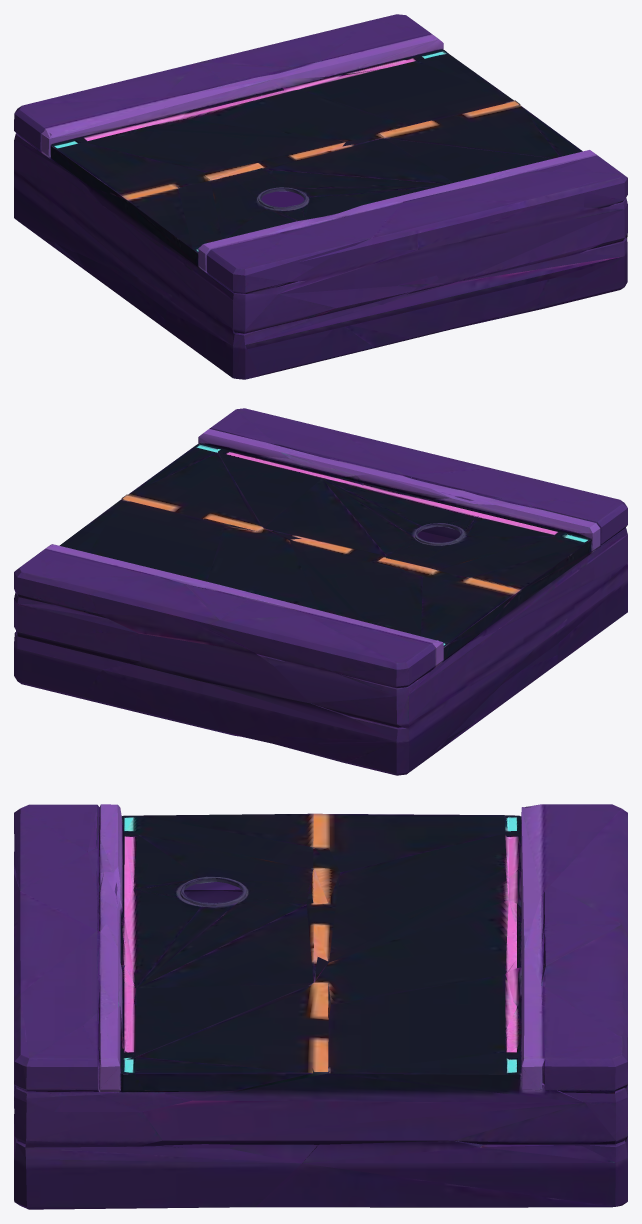
File: tile-road.glb
The picture shows the model from 3 angles, top to bottom: view 1: azimuth 30°, elevation 25°; view 2: azimuth 150°, elevation 25°; view 3: azimuth 270°, elevation 25°; orthographic projection. The views are drawn at different scales.
Parts seen in each view (by area): view 1: output_unwrapped; view 2: output_unwrapped; view 3: output_unwrapped.
Boxes of the visible parts, box(x1,y1,x2,y2) form: output_unwrapped: box(14, 14, 627, 379); output_unwrapped: box(14, 408, 627, 775); output_unwrapped: box(14, 804, 627, 1209).
Bounding box in the file's own units: 1.9 × 0.5174 × 1.9.
1 material, 1 textured.
